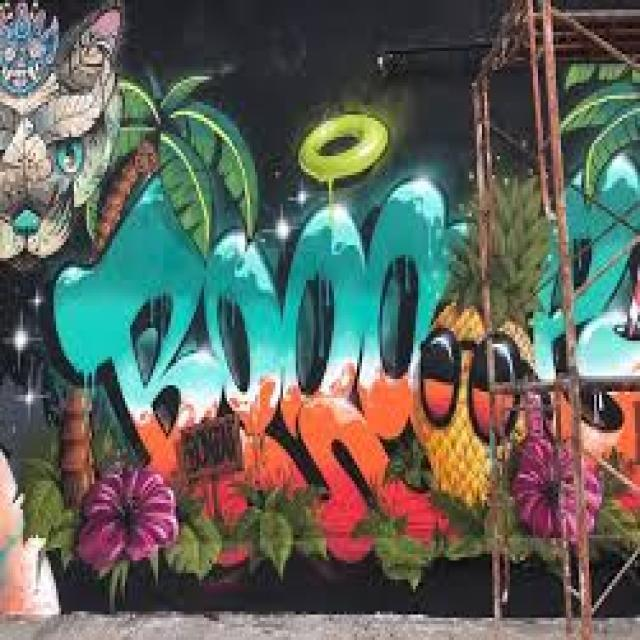-: (1, 0, 640, 578)
